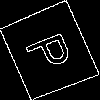P: (24, 26, 82, 75)
